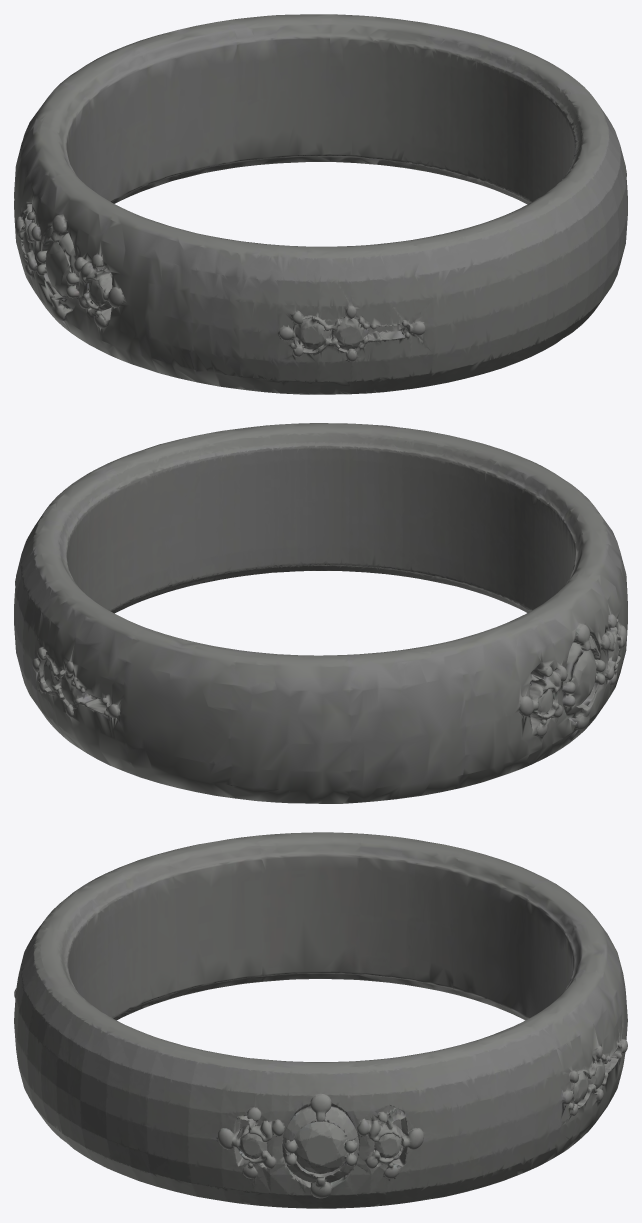
Rendered from anillo-hero2.glb.
3 renders of one model, top to bottom at view 1: azimuth 30°, elevation 25°; view 2: azimuth 150°, elevation 25°; view 3: azimuth 270°, elevation 25°, orthographic.
Visible parts, largest first — view 1: aiprintgen_node_9892040c-01b1-46e6-962b-a59673194fe1; view 2: aiprintgen_node_9892040c-01b1-46e6-962b-a59673194fe1; view 3: aiprintgen_node_9892040c-01b1-46e6-962b-a59673194fe1.
Boxes of the visible parts, bbox=[...] form: aiprintgen_node_9892040c-01b1-46e6-962b-a59673194fe1: bbox=[14, 14, 627, 394]; aiprintgen_node_9892040c-01b1-46e6-962b-a59673194fe1: bbox=[14, 423, 627, 803]; aiprintgen_node_9892040c-01b1-46e6-962b-a59673194fe1: bbox=[14, 832, 627, 1208].
Bounding box in the file's own units: 0.9795 × 0.2492 × 0.9777.
1 material, 1 textured.
